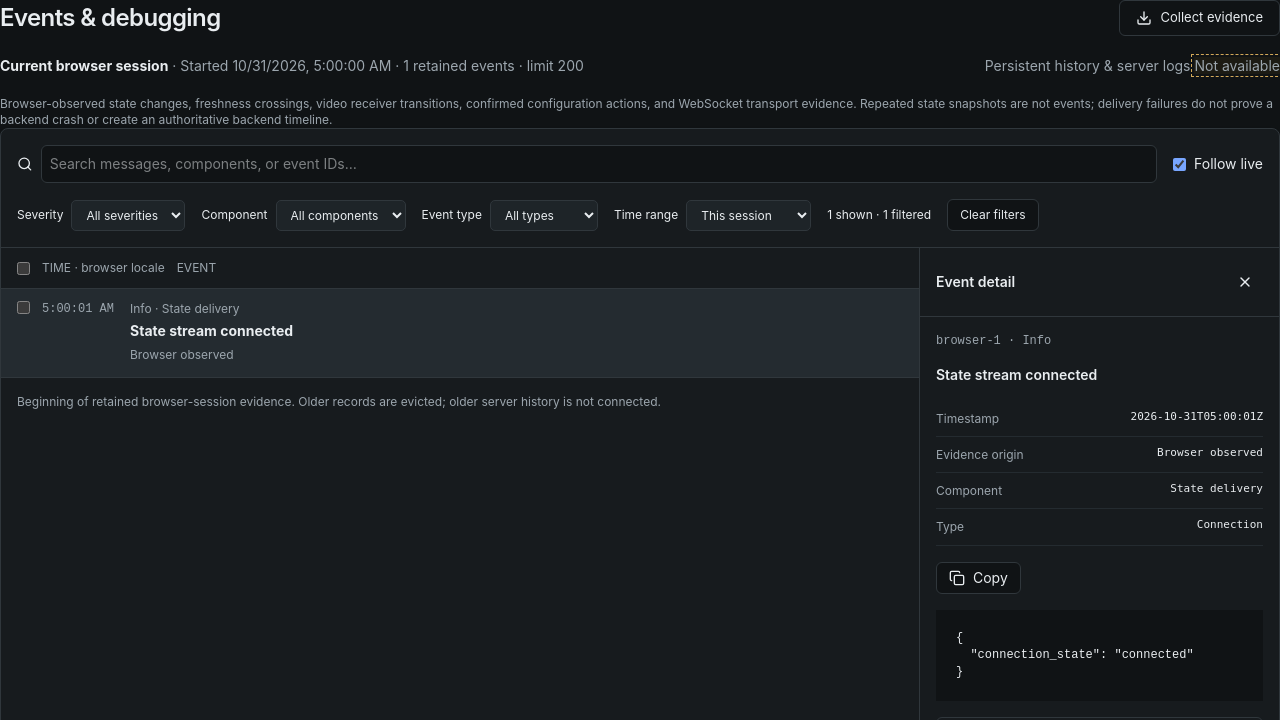
Test: EventsPage › filters real browser records and keeps prototype gaps separate
Expected: the text "State stream connected" is shown, [130,321,293,341]
Step 1. Type "no matching event" into the field named "Search events" → (599, 164), box [41,145,1157,183]
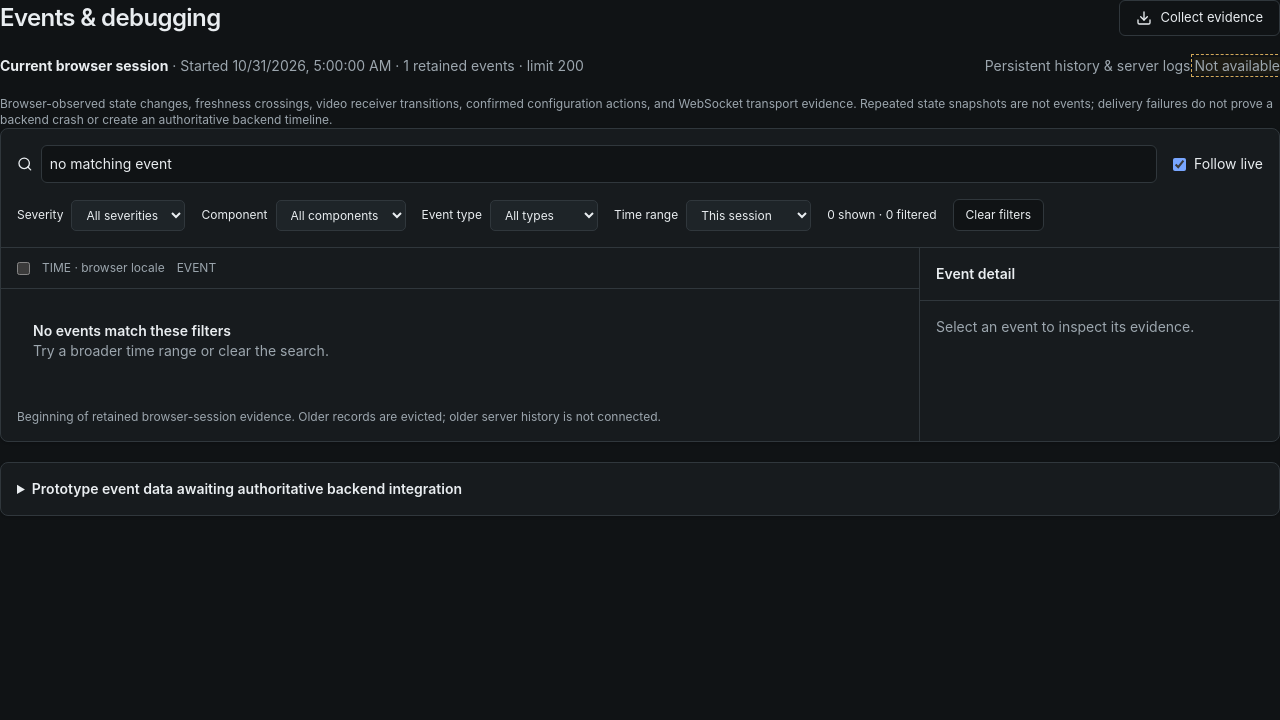
Expected: the heading "No events match these filters" is shown, [33,322,231,339]
Expected: the text "Select an event to inspect its evidence." is shown, [936,318,1194,335]
